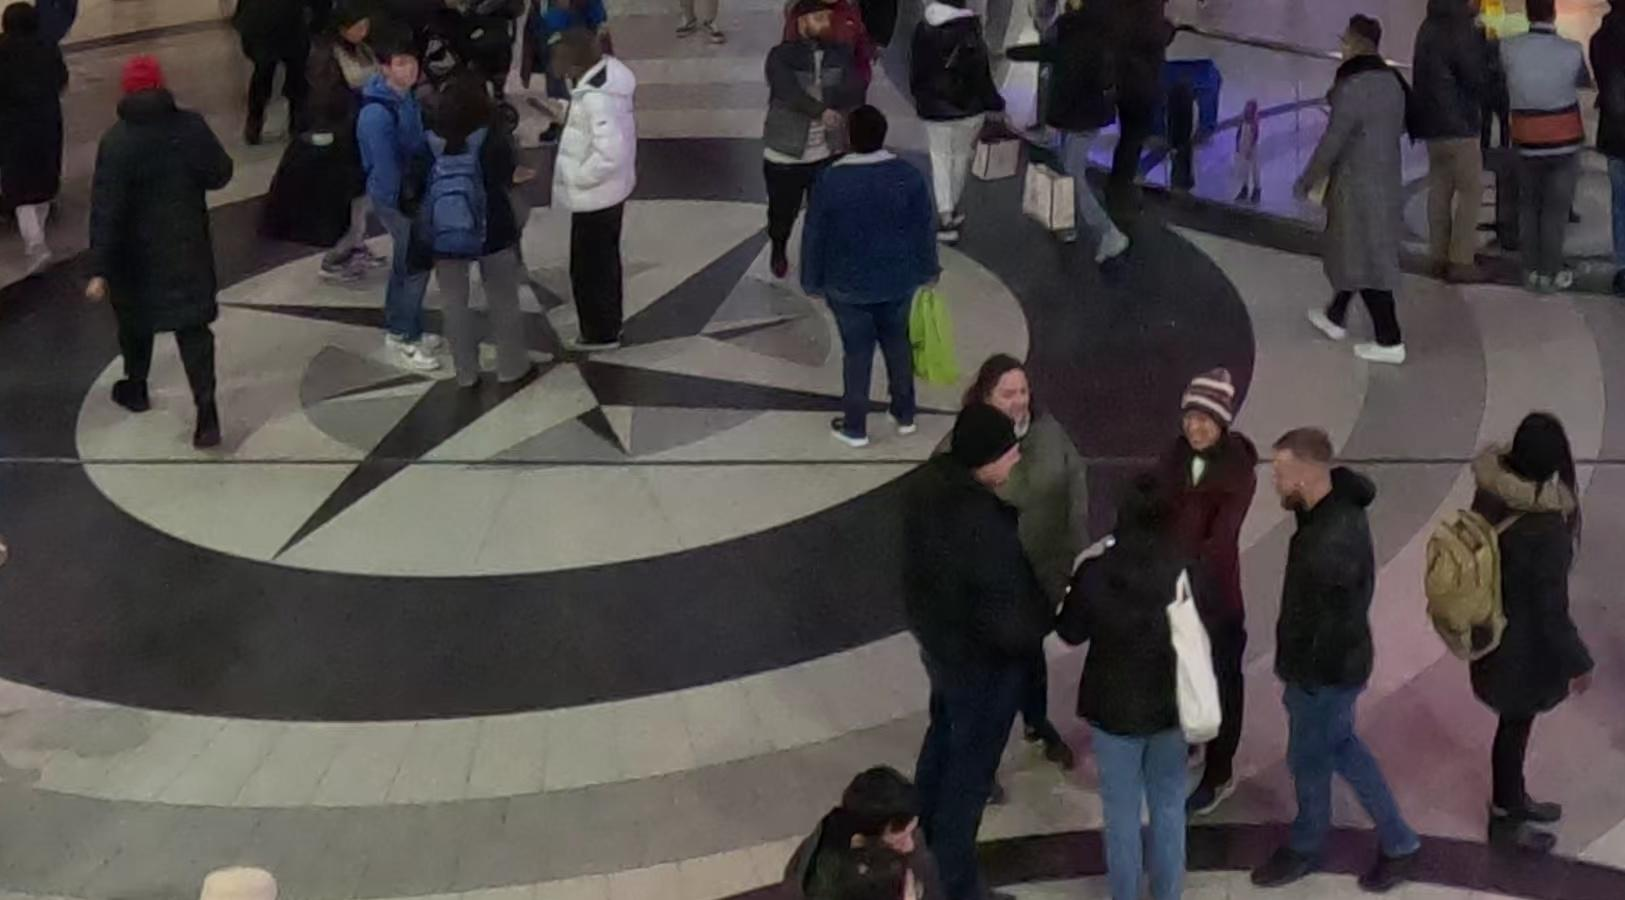person: (889, 409, 1072, 900), (1440, 409, 1616, 896), (1256, 422, 1429, 900), (1055, 453, 1238, 900), (72, 50, 251, 465), (925, 339, 1078, 773), (790, 100, 958, 460), (536, 20, 650, 372), (429, 64, 541, 405), (355, 42, 453, 394)
